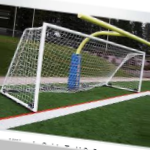goals: (2, 22, 144, 116)
